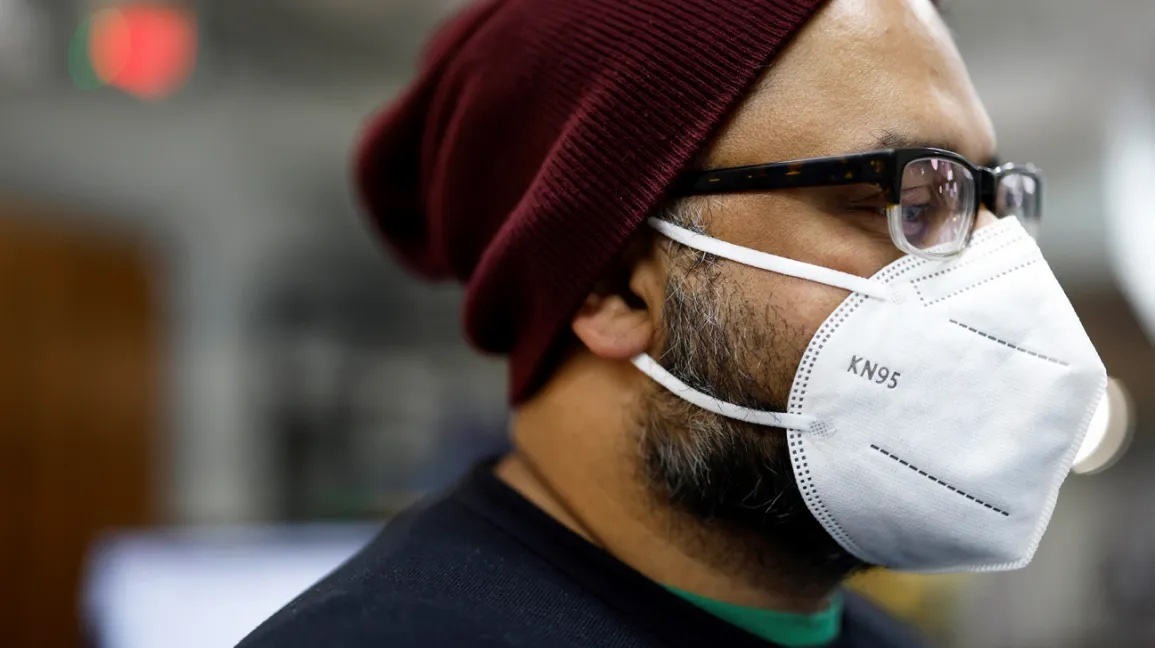Head: (564, 1, 1110, 576)
